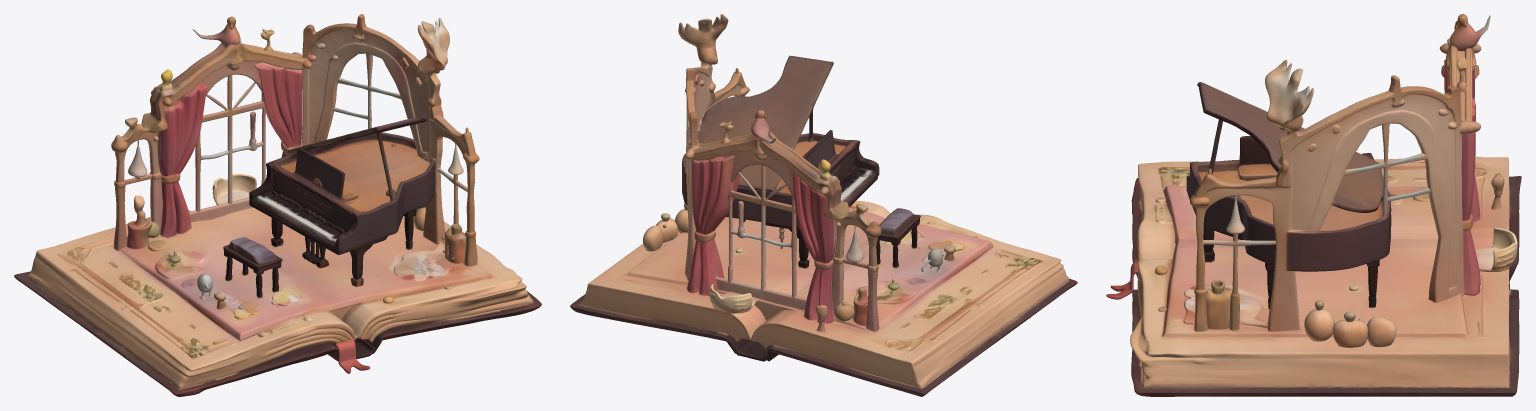
The model's file is piano_on_book_3d_model.fbx.
The picture shows the model from 3 angles, left to right: view 1: azimuth 30°, elevation 25°; view 2: azimuth 150°, elevation 25°; view 3: azimuth 270°, elevation 25°; orthographic projection. The views are drawn at different scales.
Parts seen in each view (by area): view 1: tripo_node_740e4225; view 2: tripo_node_740e4225; view 3: tripo_node_740e4225.
Part boxes in pixels (x1,y1,x2,y2): tripo_node_740e4225: (14, 14, 541, 396); tripo_node_740e4225: (570, 14, 1077, 396); tripo_node_740e4225: (1106, 14, 1521, 396).
Size of the model in its own units: 1 by 0.6745 by 0.8107.
